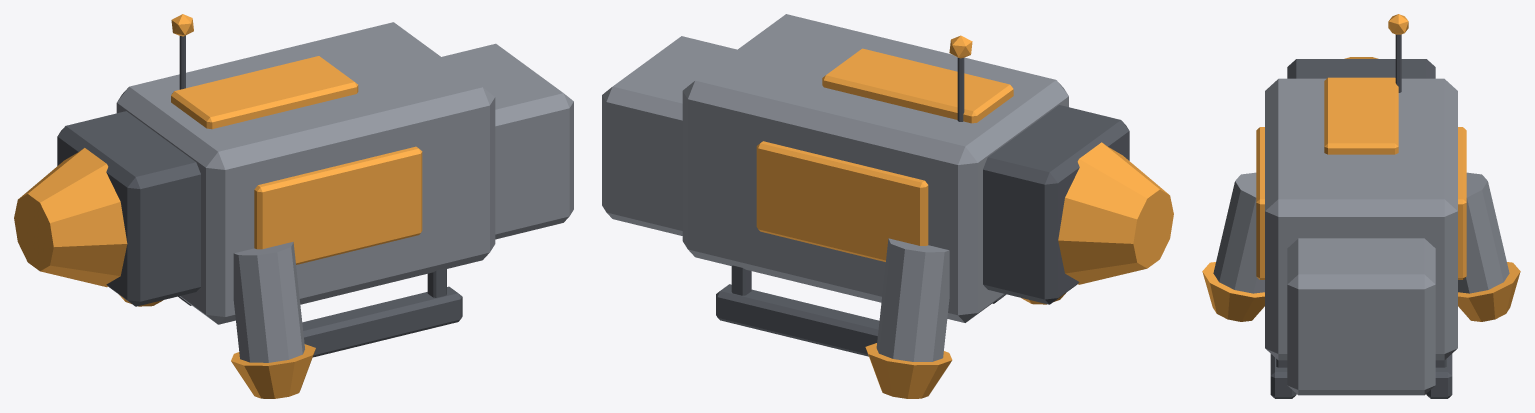
Rendered from pod_body.glb.
3 renders of one model, left to right at view 1: azimuth 30°, elevation 25°; view 2: azimuth 150°, elevation 25°; view 3: azimuth 270°, elevation 25°, orthographic. The views are drawn at different scales.
Visible parts, largest first — view 1: Hull, Engine, PanelR, Nose, EngineNozzle, TopStripe, ThrusterR, SkidR, ThrusterRNozzle, SkidLegR2; view 2: Hull, Engine, PanelL, Nose, EngineNozzle, ThrusterL, TopStripe, SkidL, ThrusterLNozzle, SkidLegL2, Antenna; view 3: Hull, Nose, TopStripe, ThrusterL, ThrusterR, Engine, ThrusterLNozzle, ThrusterRNozzle, PanelL, PanelR, SkidL, SkidR (+2 smaller).
Boxes of the visible parts, x1=… form: Hull: x1=116, y1=22, x2=495, y2=324; Engine: x1=57, y1=111, x2=200, y2=306; PanelR: x1=254, y1=146, x2=422, y2=264; Nose: x1=442, y1=43, x2=573, y2=239; EngineNozzle: x1=14, y1=148, x2=127, y2=287; TopStripe: x1=171, y1=56, x2=358, y2=129; ThrusterR: x1=233, y1=241, x2=304, y2=362; SkidR: x1=302, y1=286, x2=462, y2=357; ThrusterRNozzle: x1=231, y1=344, x2=315, y2=398; SkidLegR2: x1=427, y1=268, x2=446, y2=297; Hull: x1=682, y1=14, x2=1068, y2=322; Engine: x1=983, y1=105, x2=1129, y2=304; PanelL: x1=756, y1=141, x2=928, y2=261; Nose: x1=602, y1=36, x2=736, y2=235; EngineNozzle: x1=1058, y1=142, x2=1173, y2=284; ThrusterL: x1=876, y1=238, x2=949, y2=361; TopStripe: x1=822, y1=48, x2=1013, y2=123; SkidL: x1=716, y1=284, x2=879, y2=356; ThrusterLNozzle: x1=865, y1=343, x2=952, y2=398; SkidLegL2: x1=731, y1=265, x2=751, y2=295; Antenna: x1=957, y1=57, x2=964, y2=121; Hull: x1=1265, y1=78, x2=1457, y2=360; Nose: x1=1287, y1=238, x2=1435, y2=395; TopStripe: x1=1324, y1=77, x2=1398, y2=154; ThrusterL: x1=1458, y1=172, x2=1509, y2=293; ThrusterR: x1=1213, y1=172, x2=1264, y2=293; Engine: x1=1287, y1=59, x2=1435, y2=78; ThrusterLNozzle: x1=1458, y1=262, x2=1520, y2=321; ThrusterRNozzle: x1=1202, y1=262, x2=1264, y2=321; PanelL: x1=1458, y1=127, x2=1466, y2=279; PanelR: x1=1256, y1=127, x2=1264, y2=279; SkidL: x1=1426, y1=354, x2=1452, y2=398; SkidR: x1=1270, y1=354, x2=1296, y2=398.
Bounding box in the file's own units: 7.35 × 4.45 × 4.29.
